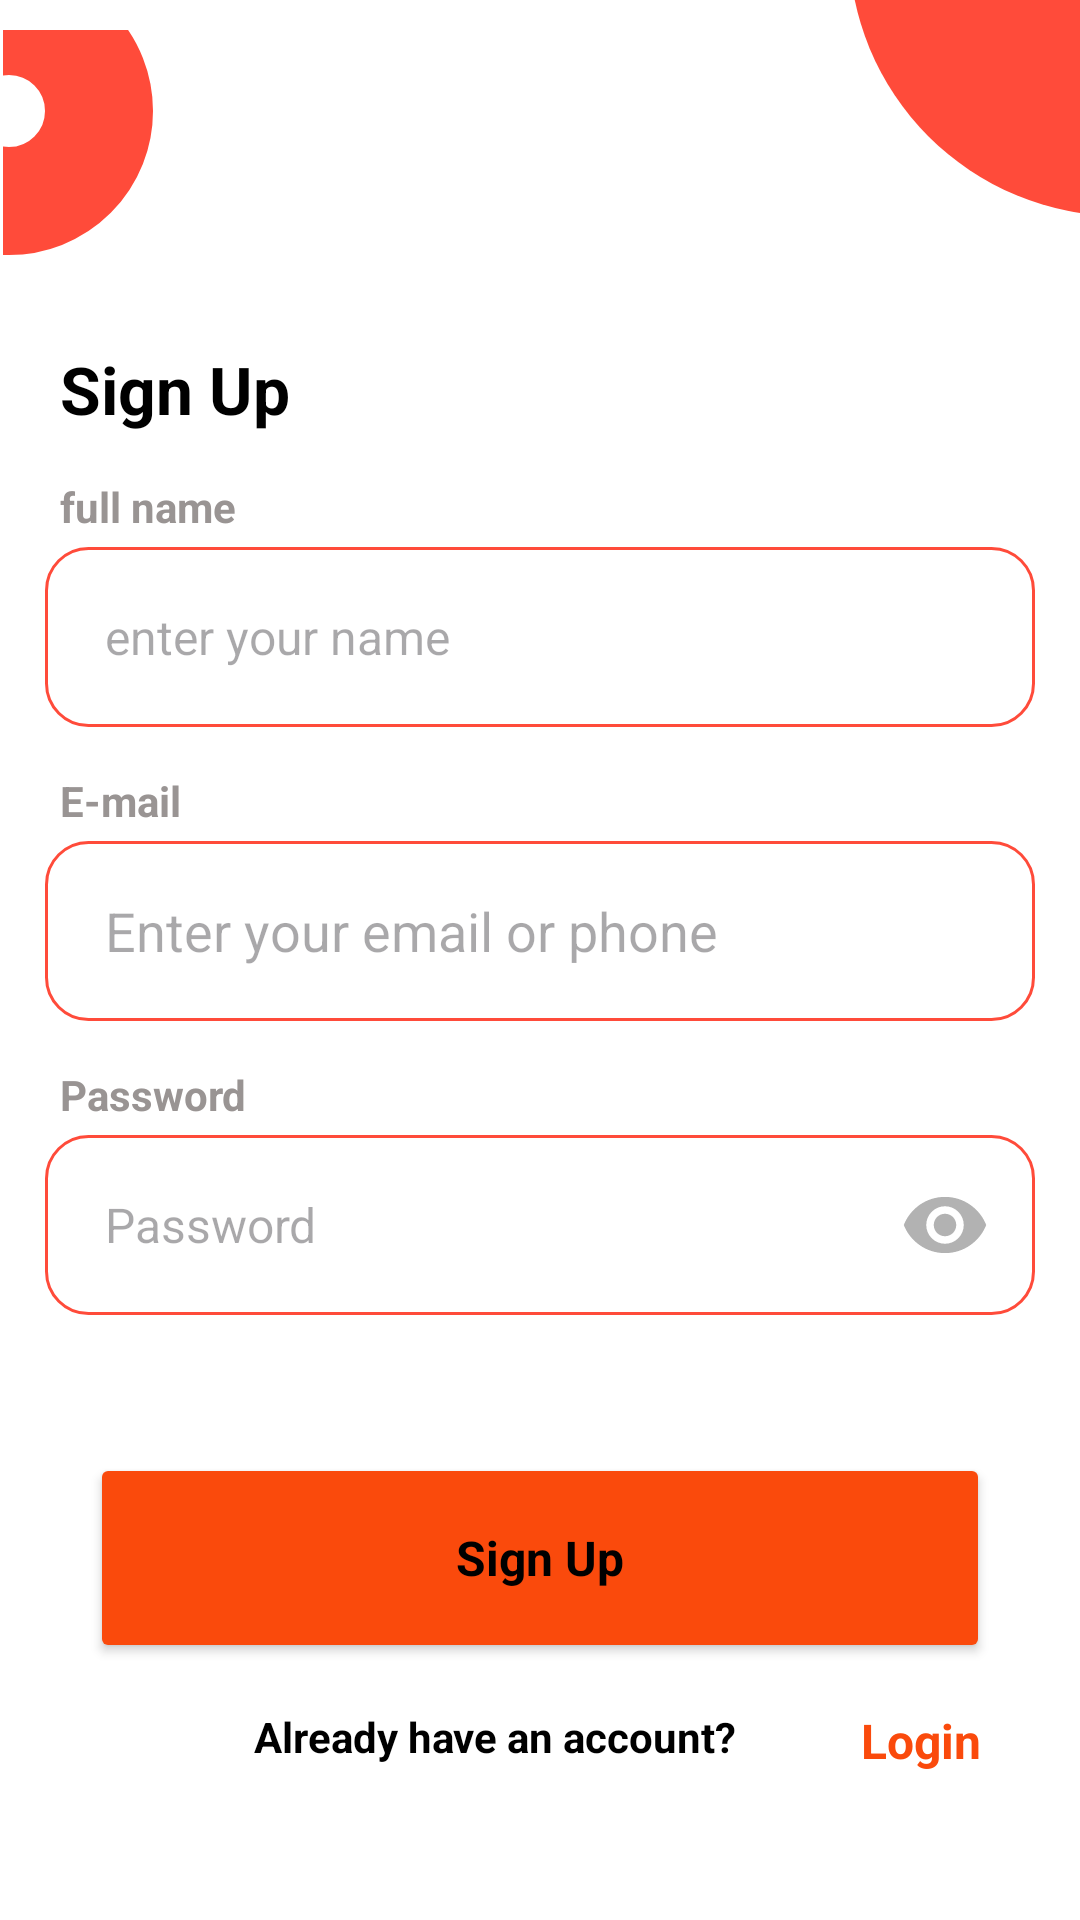

Named icons in this screenshot (1080 × 1920) and their centers, [x,y]:
quarter circle: [967,106]
